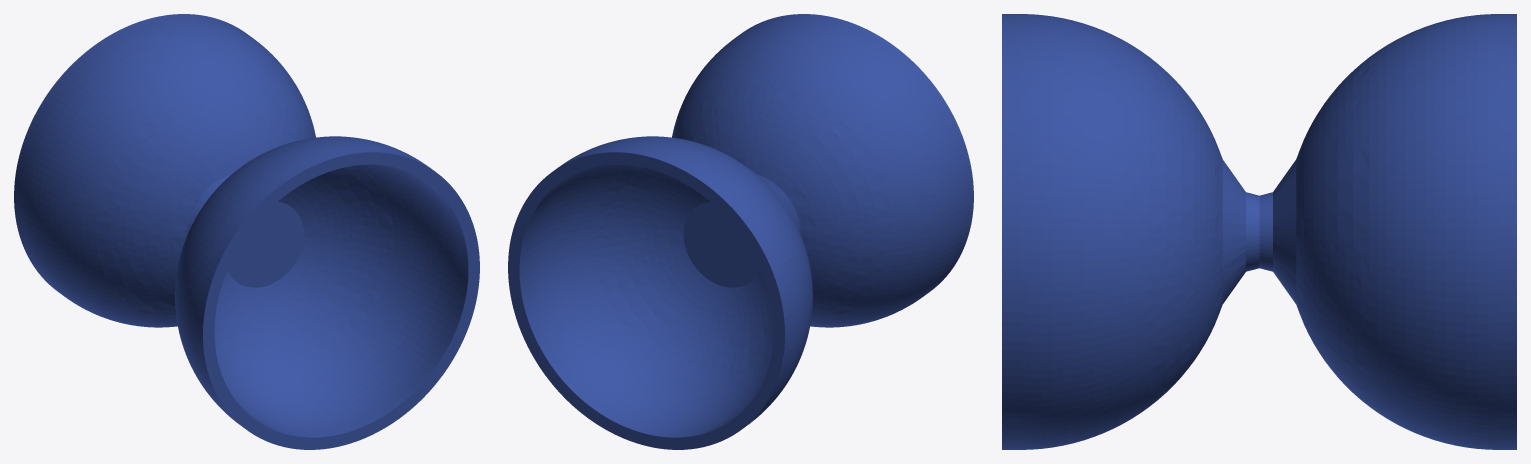
Rendered from BlueDiabolo.obj.
3 views of the same model, side by side, from view 1: azimuth 30°, elevation 25°; view 2: azimuth 150°, elevation 25°; view 3: azimuth 270°, elevation 25° (orthographic). The views are drawn at different scales.
Visible parts, largest first — view 1: obj_0; view 2: obj_0; view 3: obj_0.
Part boxes in pixels (x1,y1,x2,y2): obj_0: (14,14,479,449); obj_0: (508,14,973,449); obj_0: (1002,14,1516,449).
Bounding box in the file's own units: 127 × 127 × 150.
